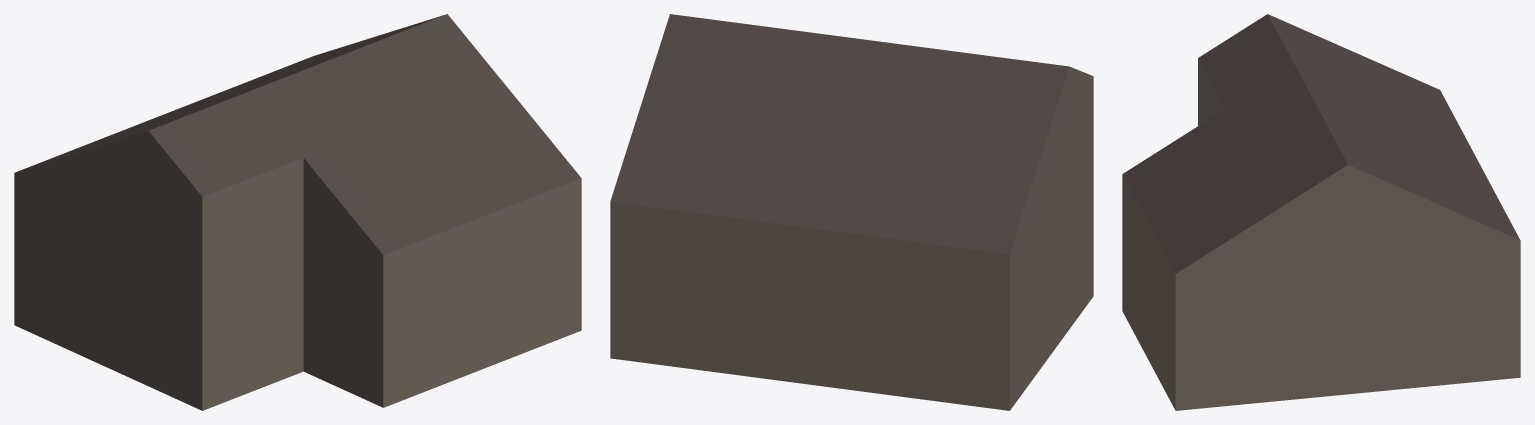
3 views of the same model, side by side, from view 1: azimuth 30°, elevation 25°; view 2: azimuth 150°, elevation 25°; view 3: azimuth 270°, elevation 25° (orthographic). The views are drawn at different scales.
Parts seen in each view (by area): view 1: HP-w1200750010; view 2: HP-w1200750010; view 3: HP-w1200750010.
Boxes of the visible parts, x1,y1,x2,y2 form: HP-w1200750010: [14, 14, 581, 410]; HP-w1200750010: [610, 14, 1093, 410]; HP-w1200750010: [1122, 14, 1520, 410].
Bounding box in the file's own units: 17.28 × 10.06 × 15.81.
